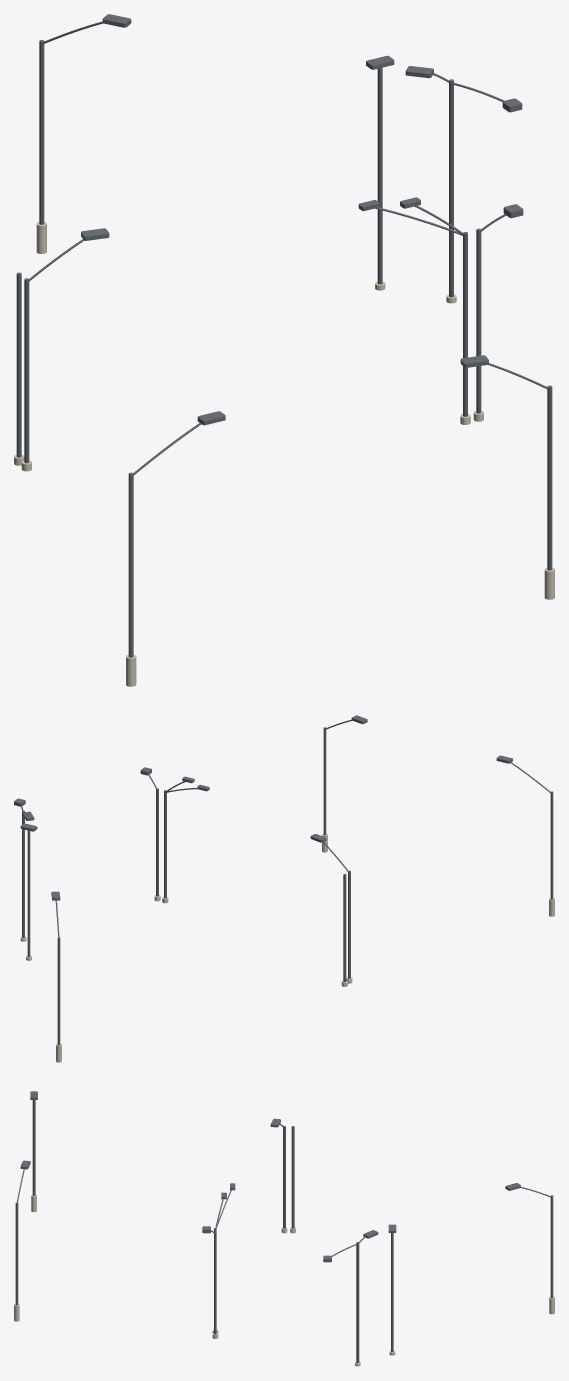
The picture shows the model from 3 angles, top to bottom: view 1: azimuth 30°, elevation 25°; view 2: azimuth 150°, elevation 25°; view 3: azimuth 270°, elevation 25°; orthographic projection. The views are drawn at different scales.
Parts seen in each view (by area): view 1: buildings_s_-12_-6_Dark_Metal, buildings_s_-12_-6_Warm_Limestone; view 2: buildings_s_-12_-6_Dark_Metal, buildings_s_-12_-6_Warm_Limestone; view 3: buildings_s_-12_-6_Dark_Metal, buildings_s_-12_-6_Warm_Limestone.
Boxes of the visible parts, box(x1,y1,x2,y2) form: buildings_s_-12_-6_Dark_Metal: box(16, 14, 552, 657); buildings_s_-12_-6_Warm_Limestone: box(14, 222, 554, 686); buildings_s_-12_-6_Dark_Metal: box(14, 715, 553, 1045); buildings_s_-12_-6_Warm_Limestone: box(20, 833, 554, 1062); buildings_s_-12_-6_Dark_Metal: box(15, 1091, 553, 1362); buildings_s_-12_-6_Warm_Limestone: box(14, 1194, 554, 1366).
Bounding box in the file's own units: 48.84 × 17.75 × 62.67.
